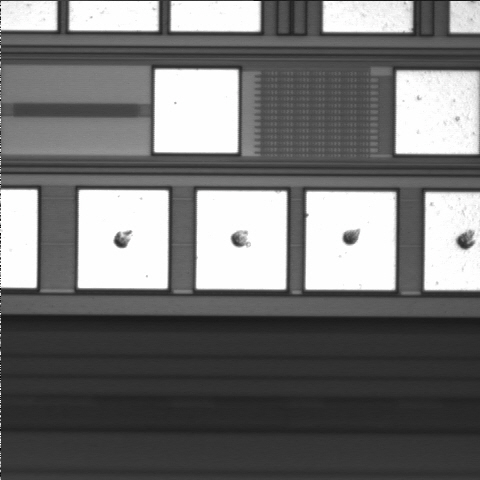pad: (196, 191, 287, 289), (78, 190, 168, 289), (306, 192, 396, 290), (154, 69, 238, 153)
